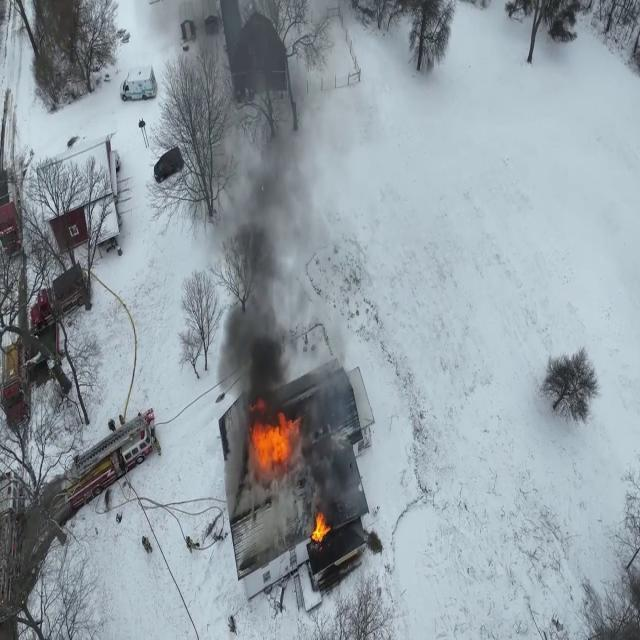Fire: (245, 402, 308, 480)
Smoke: (192, 37, 354, 400)
